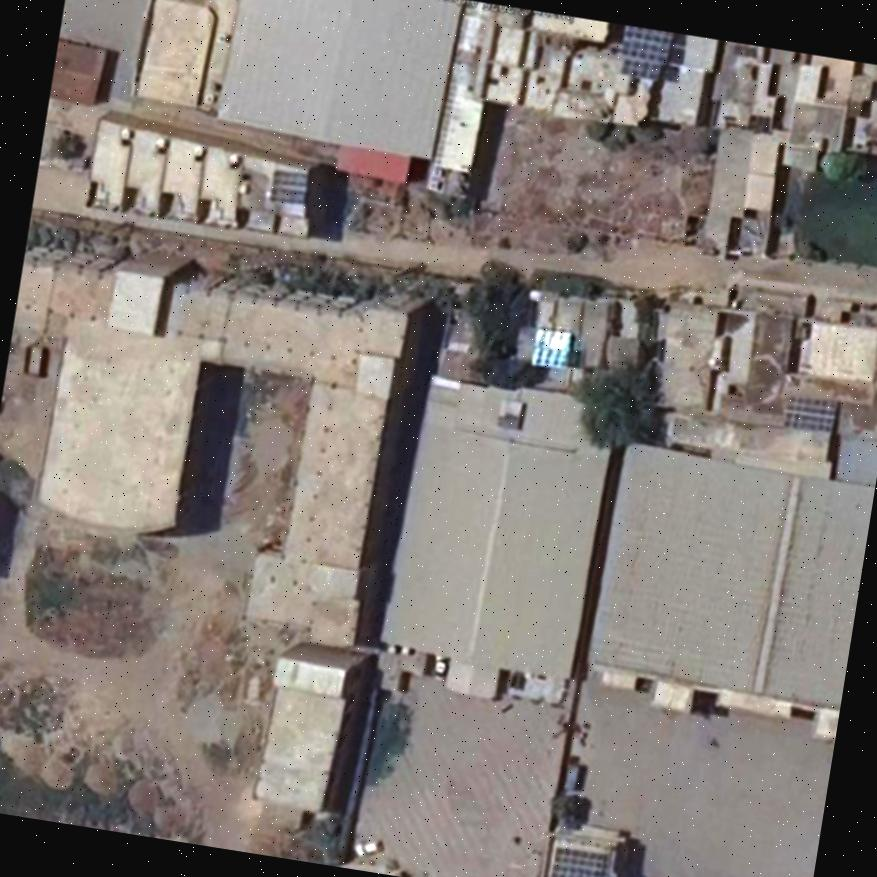Solarpanel: (616, 25, 670, 78), (783, 395, 835, 431), (549, 846, 607, 877), (531, 327, 572, 367), (269, 172, 308, 201)
